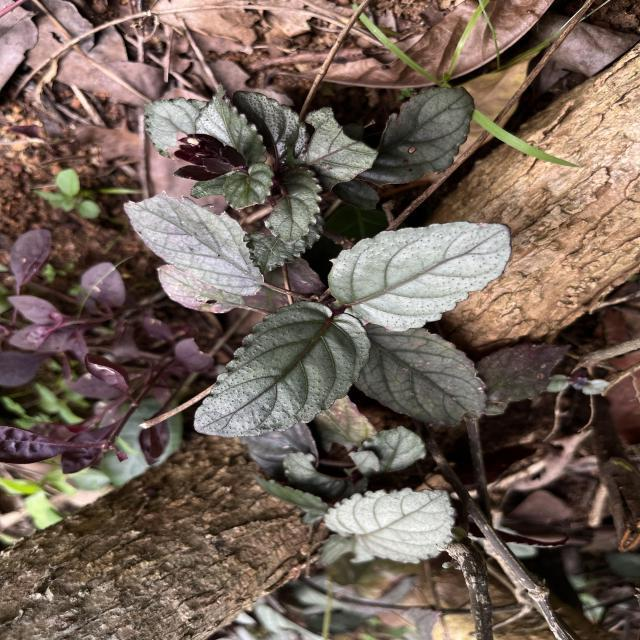Hemigraphis colorata: (191, 297, 376, 440), (322, 218, 514, 338), (120, 189, 270, 302), (354, 326, 490, 432), (320, 483, 460, 568)
